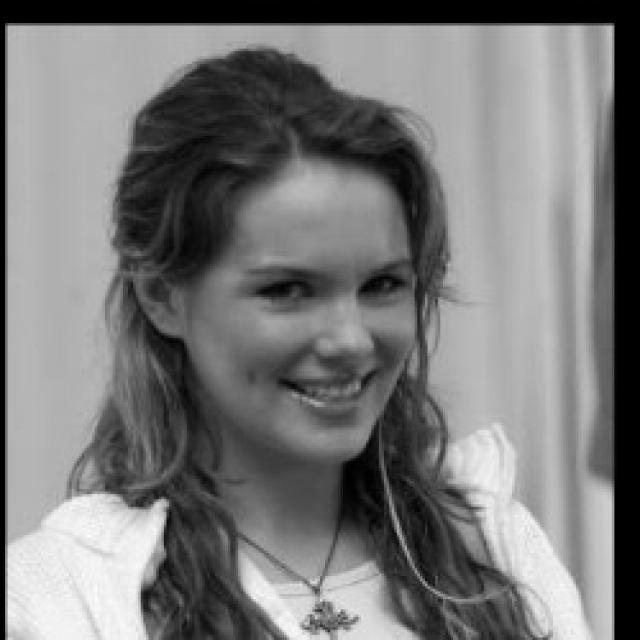real: (191, 150, 417, 461), (225, 252, 409, 315)
